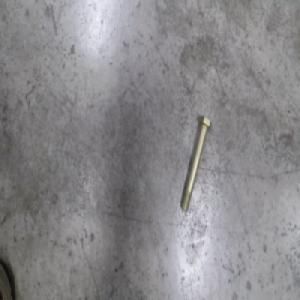Bolt: (178, 115, 211, 214)
